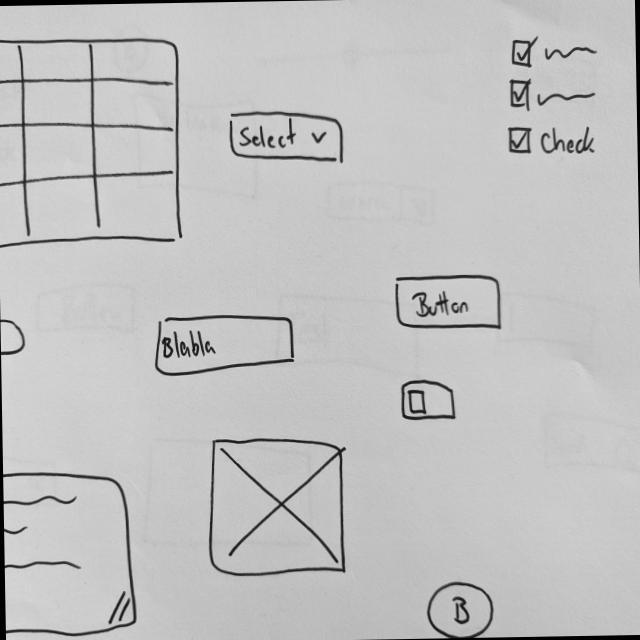button: (393, 271, 507, 335)
checkbox: (508, 123, 599, 160), (509, 76, 602, 112), (510, 36, 600, 70)
icon-button: (426, 579, 498, 639)
image: (208, 435, 350, 581)
input: (153, 313, 297, 380)
select: (228, 107, 349, 171)
table: (1, 30, 187, 253)
textbox: (4, 467, 140, 639)
toggle: (399, 377, 461, 428), (1, 316, 26, 358)
